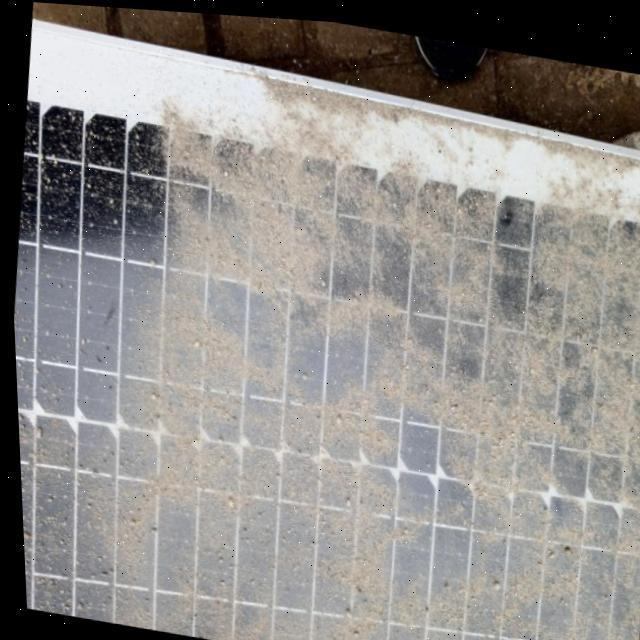Anomaly Solar Panel: (1, 38, 640, 640)
Surface Contaminant: (16, 83, 640, 640)
